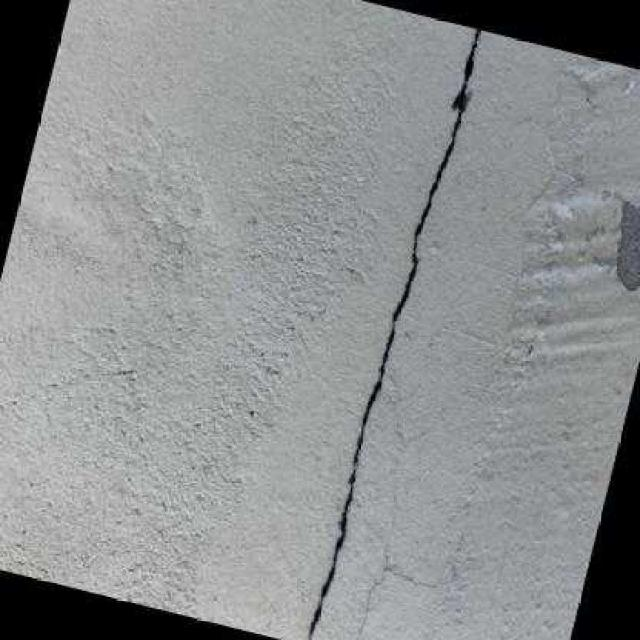D00: (309, 29, 480, 640), (357, 568, 432, 640)
